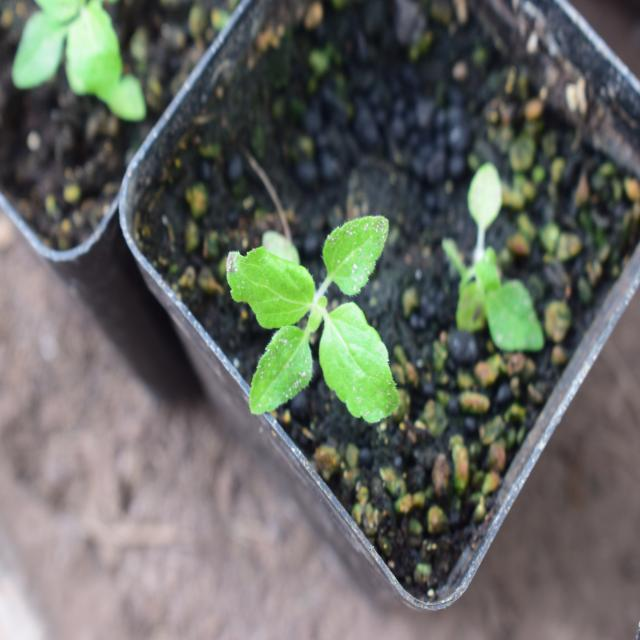billygoat_weed: (220, 208, 410, 441)
